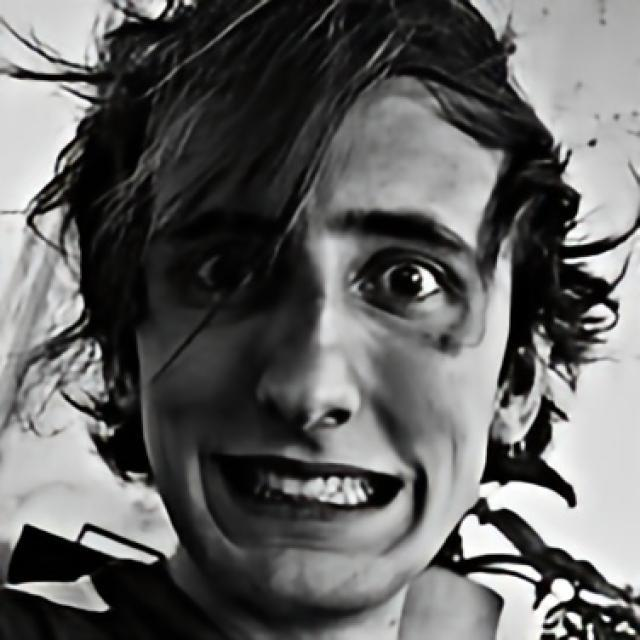fear: (130, 61, 510, 620)
